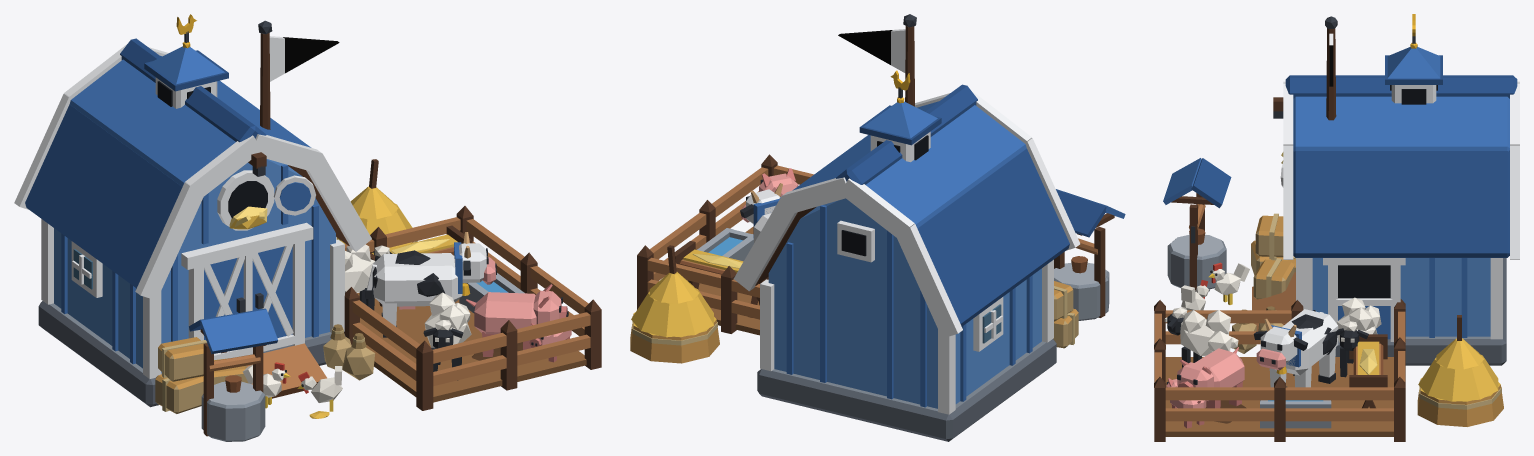
Rendered from Bld_Farm_L2.fbx.
The picture shows the model from 3 angles, left to right: view 1: azimuth 30°, elevation 25°; view 2: azimuth 150°, elevation 25°; view 3: azimuth 270°, elevation 25°; orthographic projection. The views are drawn at different scales.
Visible parts, largest first — view 1: Bld_Farm_L2; view 2: Bld_Farm_L2; view 3: Bld_Farm_L2.
Part boxes in pixels (x1,y1,x2,y2): Bld_Farm_L2: [14, 14, 601, 441]; Bld_Farm_L2: [630, 14, 1125, 441]; Bld_Farm_L2: [1154, 14, 1519, 441].
Size of the model in its own units: 5.12 by 4.28 by 4.42.
